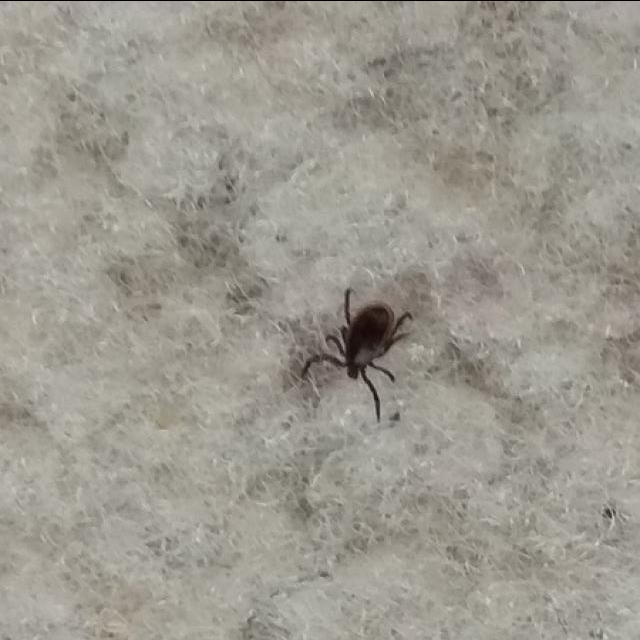Ixodes Ricinus-M: (297, 285, 417, 421)
